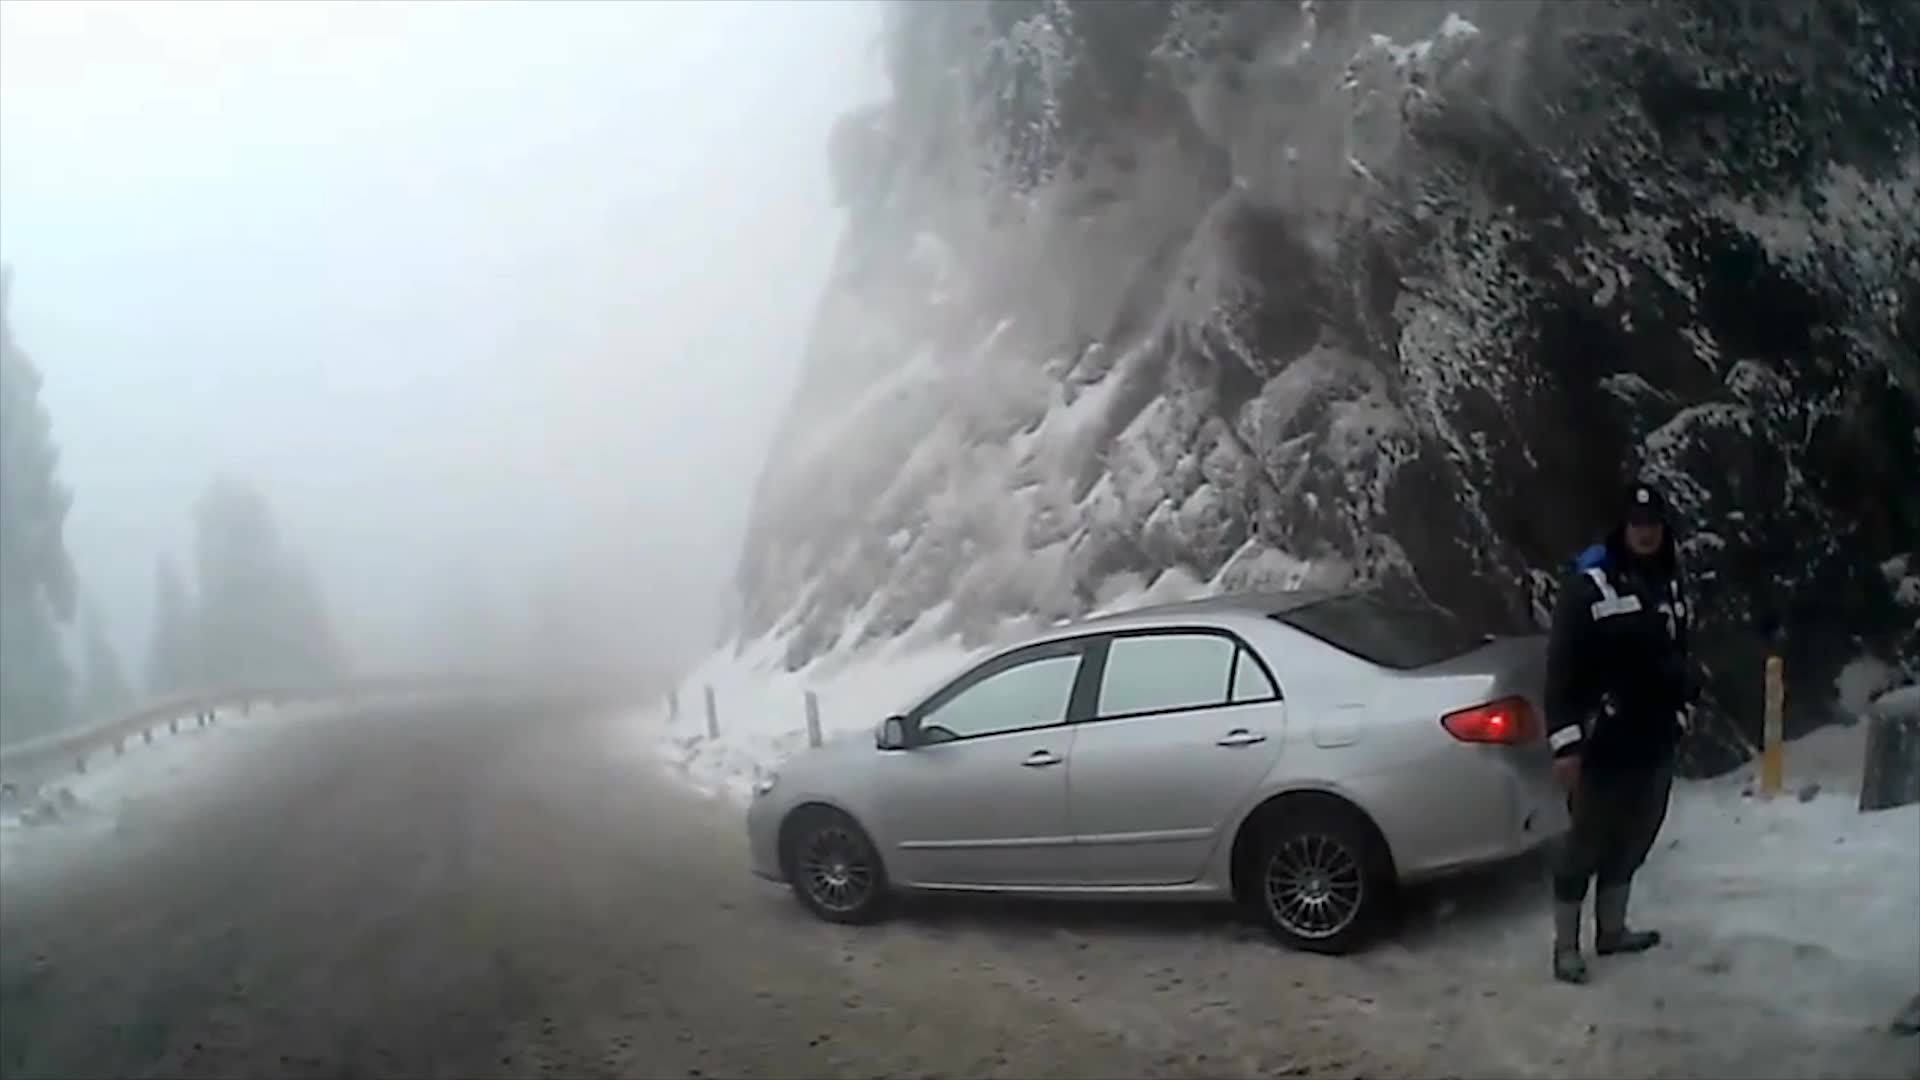pedestrian: (1550, 483, 1707, 982)
vehicle: (748, 582, 1643, 948)
